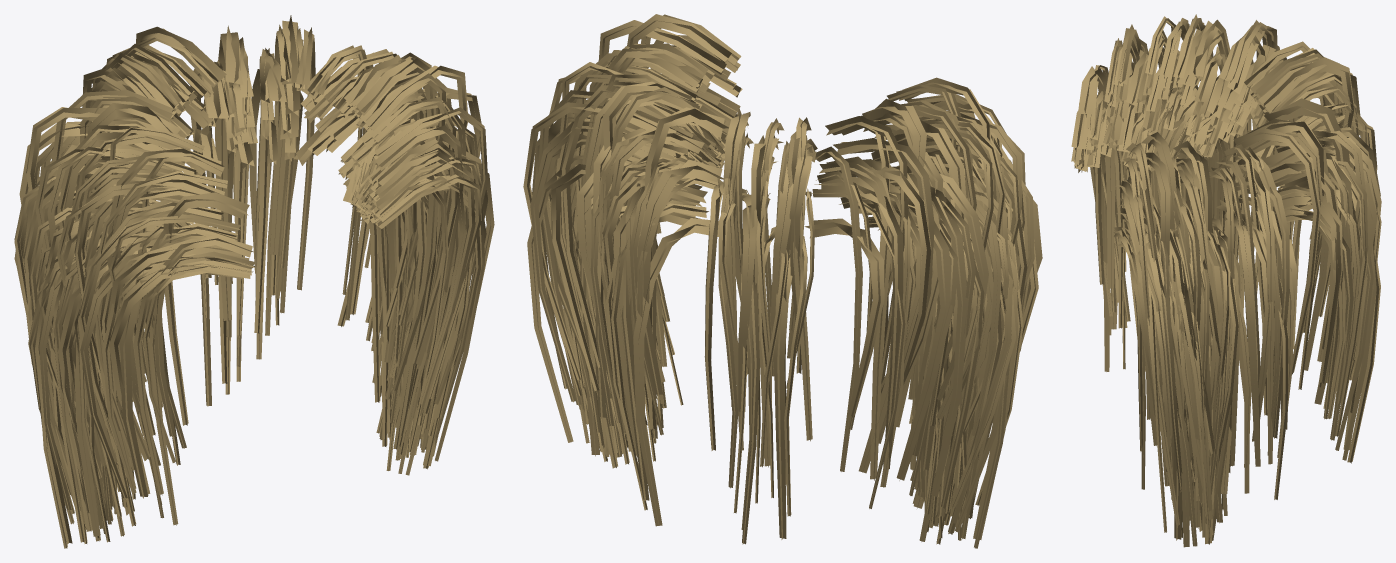
Rendered from clown-hair-web.glb.
3 views of the same model, side by side, from view 1: azimuth 30°, elevation 25°; view 2: azimuth 150°, elevation 25°; view 3: azimuth 270°, elevation 25° (orthographic). The views are drawn at different scales.
Visible parts, largest first — view 1: MattedBlondHair; view 2: MattedBlondHair; view 3: MattedBlondHair.
Part boxes in pixels (x1,y1,x2,y2): MattedBlondHair: [14, 15, 494, 548]; MattedBlondHair: [523, 14, 1042, 548]; MattedBlondHair: [1071, 14, 1381, 547].
Bounding box in the file's own units: 0.6645 × 0.608 × 0.4243.
